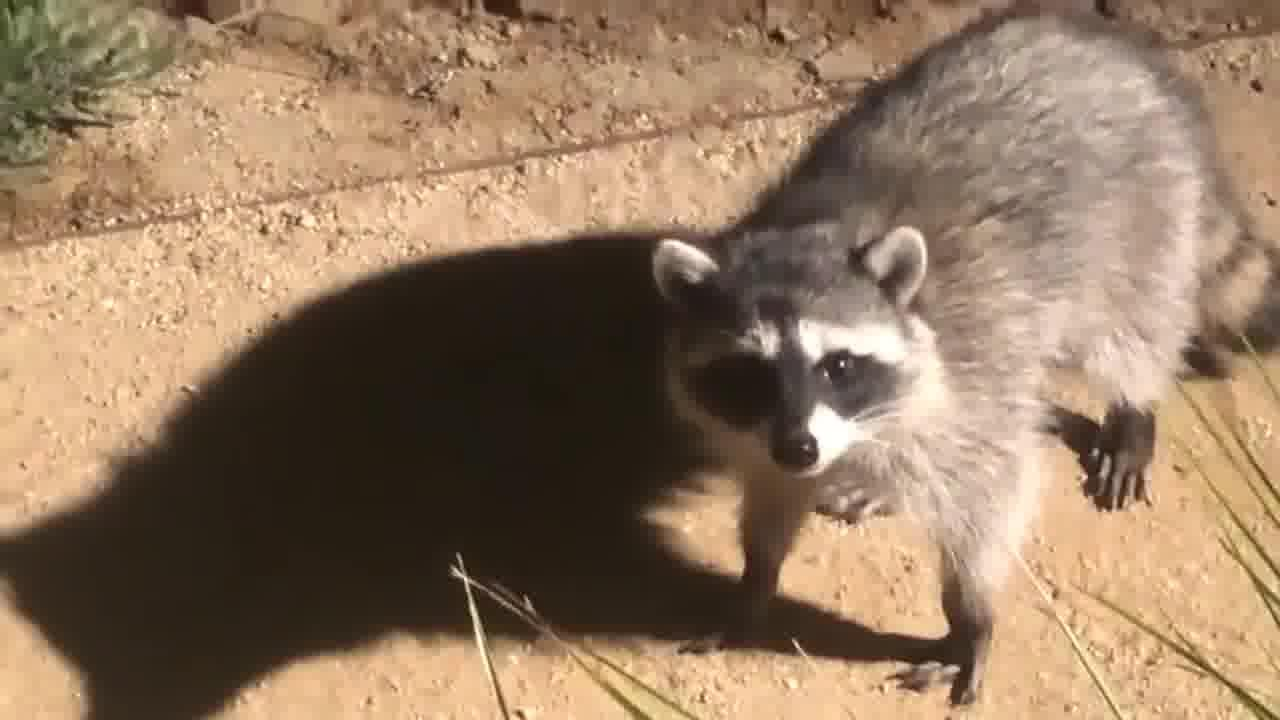raccoon: (638, 0, 1280, 720)
